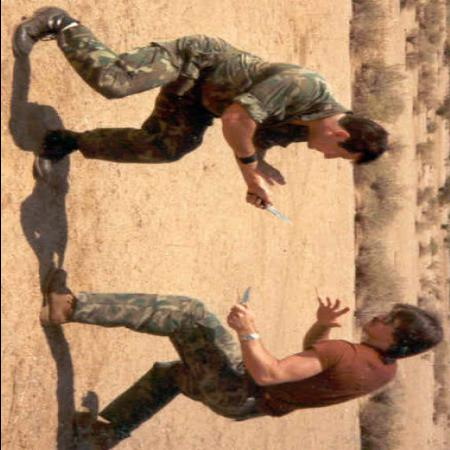long weapon: (240, 193, 306, 233), (225, 284, 258, 332)
